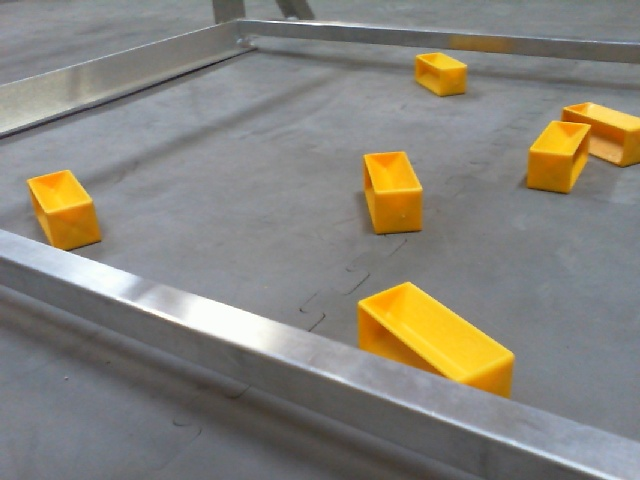YellowSample: (356, 279, 518, 411), (21, 166, 108, 254), (357, 150, 430, 236), (560, 97, 640, 172), (522, 116, 592, 194), (413, 51, 468, 101)
